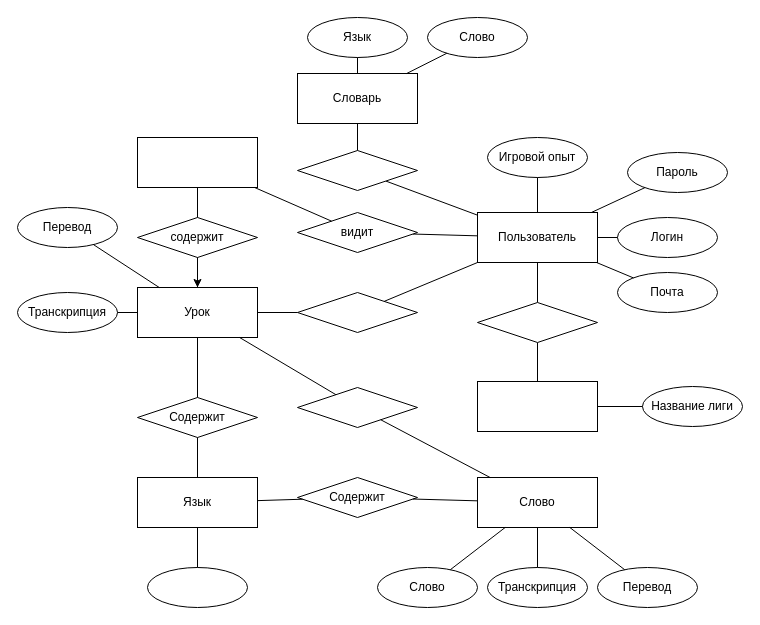
Some shapes in this 760 by 625 pixel diagram are drawn without their labels. Each missing label, with the centre of its shape:
"имеется" goes at point 357,407.
"Лига" goes at point 537,406.
"Название" goes at point 197,587.
"Пройденные уроки" goes at point 197,162.
"проходит" goes at point 357,312.
"смотрит" goes at point 357,170.
"Участвует" goes at point 537,322.
